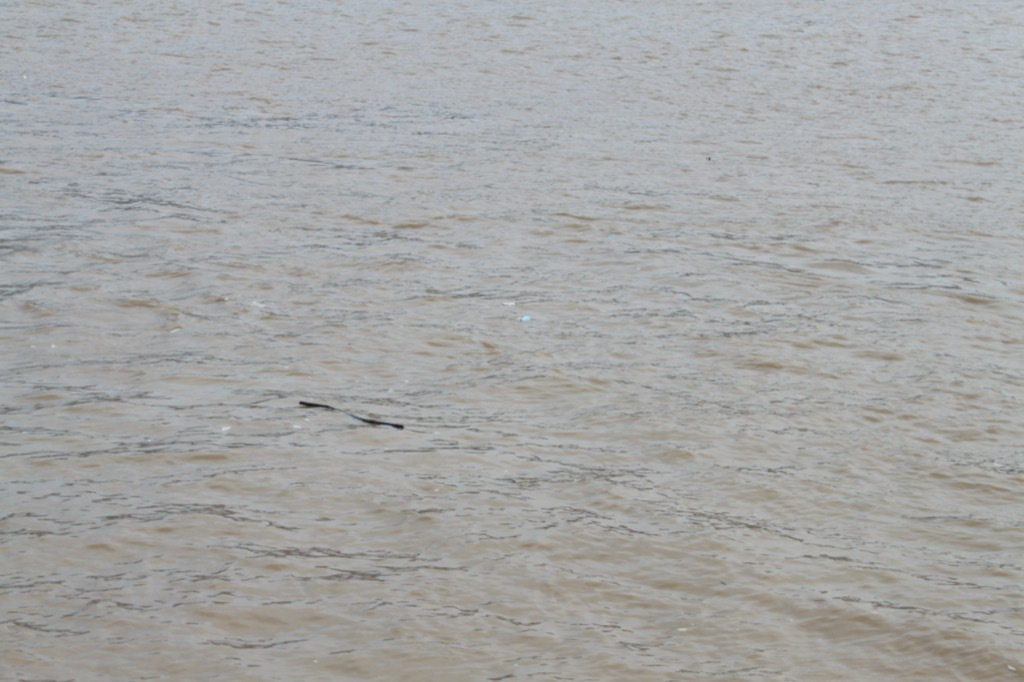organic: (291, 390, 422, 444)
plastic: (510, 310, 538, 328)
